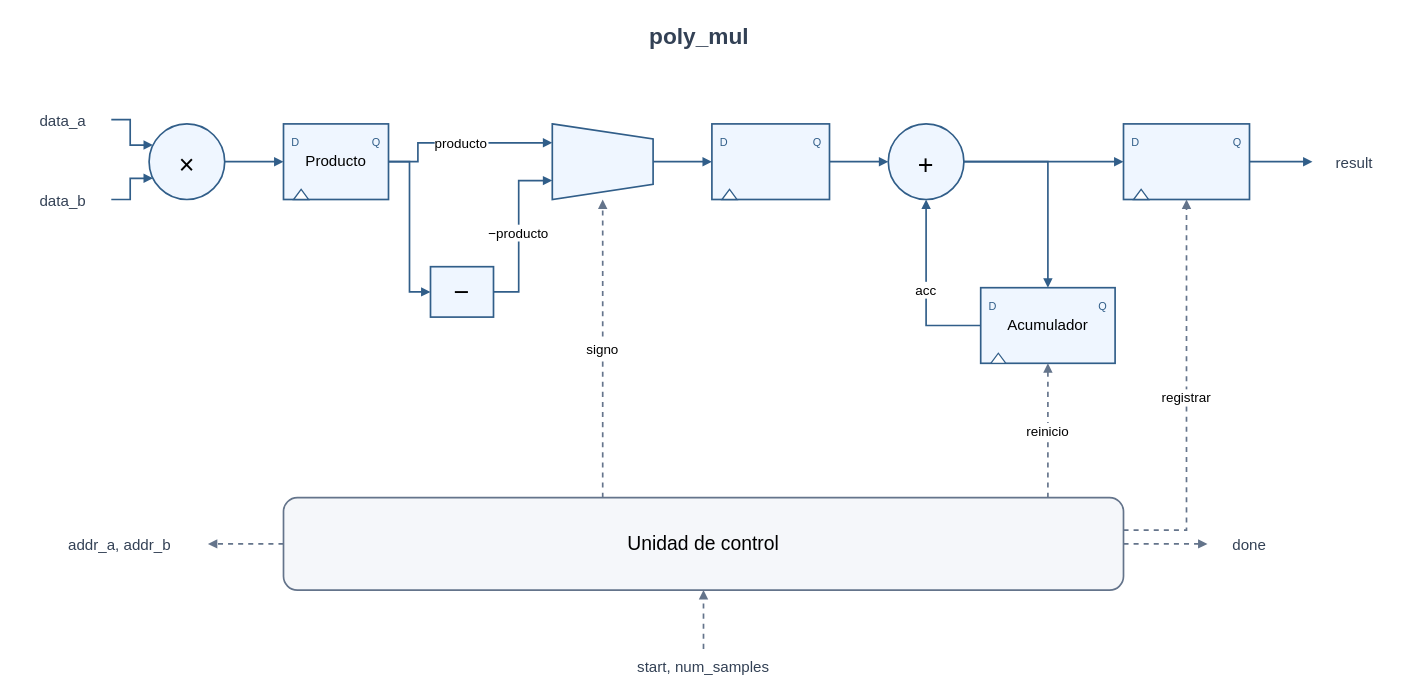
The diagram is 1410 pixels wide and 696 high, and some of its shapes have lost their labels. The box of each missing label's shape, as (x1, y1, x2, y2) in pixels:
MUX: (551, 123, 654, 200)
Producto con signo: (711, 123, 830, 200)
Resultado: (1122, 123, 1250, 200)
